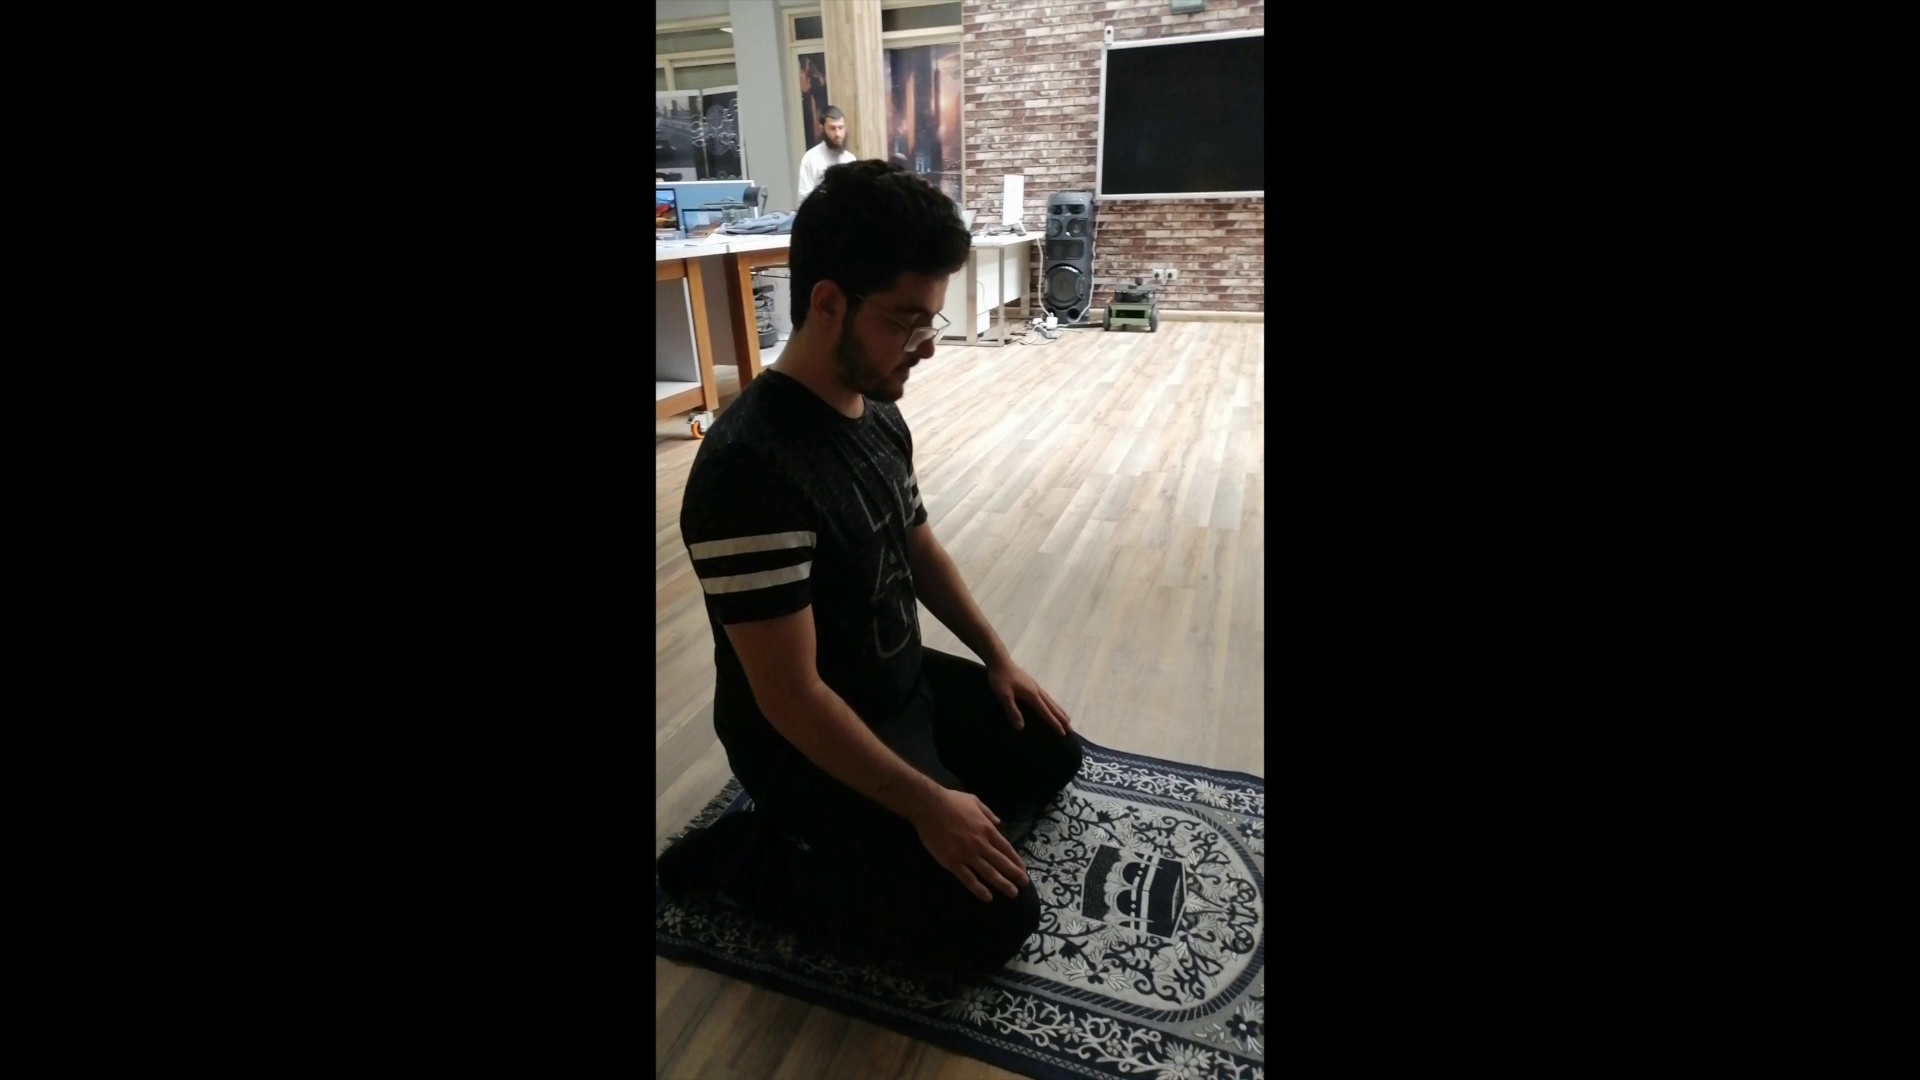sitting: (673, 146, 1089, 976)
